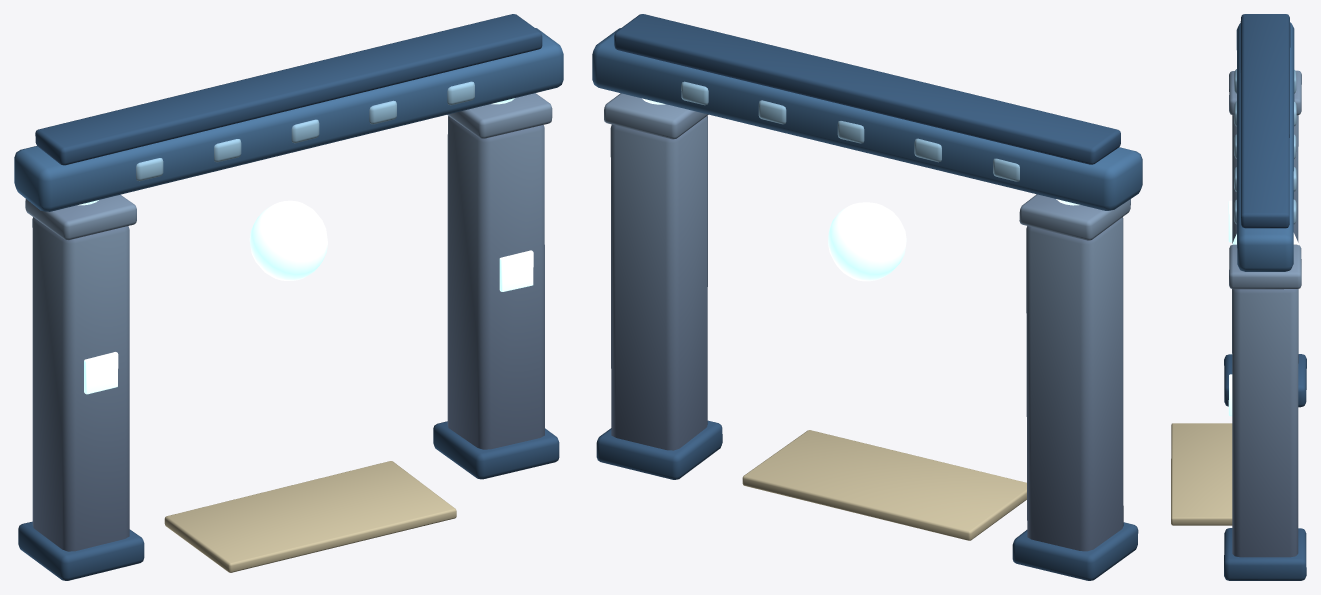
The picture shows the model from 3 angles, left to right: view 1: azimuth 30°, elevation 25°; view 2: azimuth 150°, elevation 25°; view 3: azimuth 270°, elevation 25°; orthographic projection. The views are drawn at different scales.
Visible parts, largest first — view 1: gate_0cd8a618; view 2: gate_0cd8a618; view 3: gate_0cd8a618.
Boxes of the visible parts, left/top/right/bottom form: gate_0cd8a618: left=14, top=14, right=563, bottom=580; gate_0cd8a618: left=592, top=14, right=1142, bottom=580; gate_0cd8a618: left=1171, top=14, right=1306, bottom=580.
Size of the model in its own units: 5.52 by 4.29 by 1.44.
